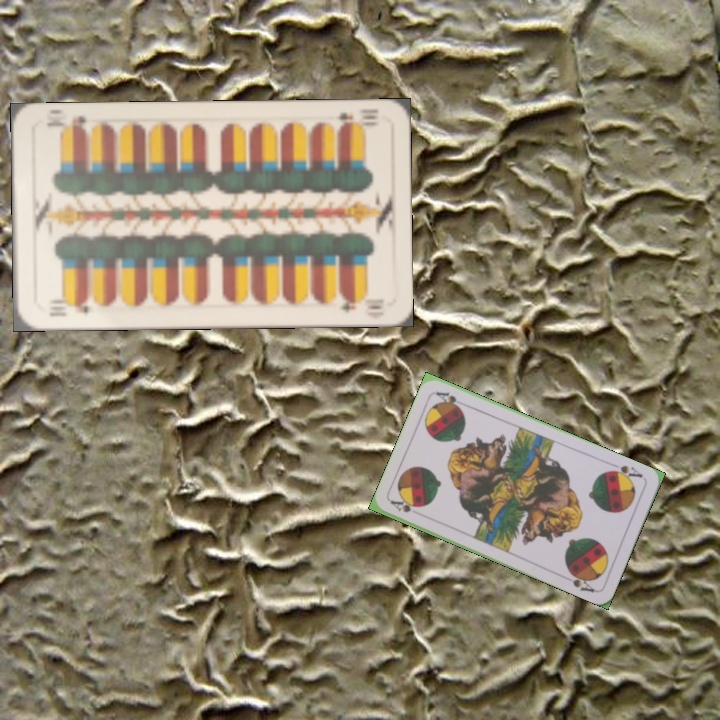E10: (325, 108, 380, 133), (45, 295, 92, 319)
SA: (605, 461, 645, 483), (387, 496, 421, 515)
